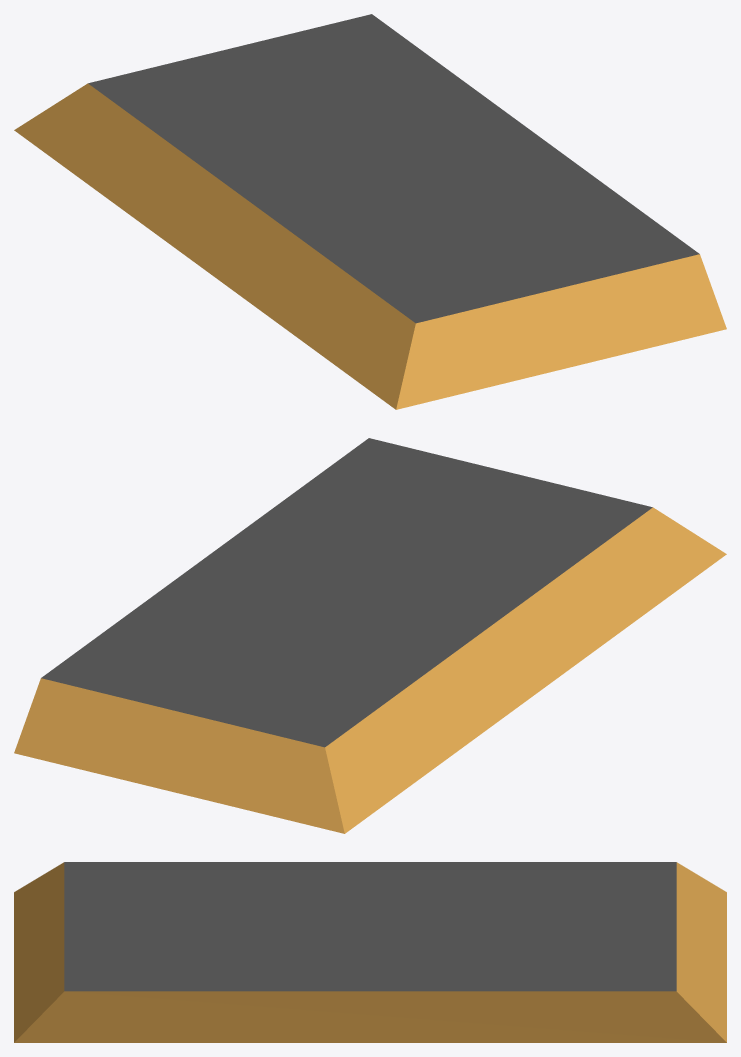
Rendered from Skate_Pill_Box_Double_Cut_01.FBX.
The picture shows the model from 3 angles, top to bottom: view 1: azimuth 30°, elevation 25°; view 2: azimuth 150°, elevation 25°; view 3: azimuth 270°, elevation 25°; orthographic projection. The views are drawn at different scales.
Visible parts, largest first — view 1: Skate_Pill_Box_Double_Cut_01; view 2: Skate_Pill_Box_Double_Cut_01; view 3: Skate_Pill_Box_Double_Cut_01.
Part boxes in pixels (<box>): Skate_Pill_Box_Double_Cut_01: <box>14,14,726,409</box>; Skate_Pill_Box_Double_Cut_01: <box>14,438,726,833</box>; Skate_Pill_Box_Double_Cut_01: <box>14,862,726,1042</box>.
Bounding box in the file's own units: 3 × 0.4789 × 6.
